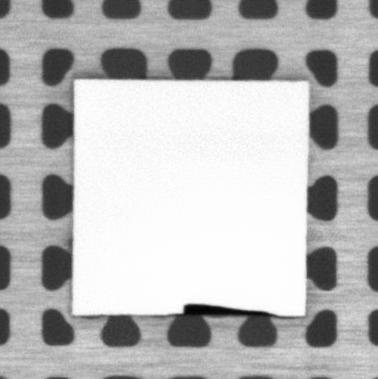DIE_BROKEN: (181, 301, 278, 318)
